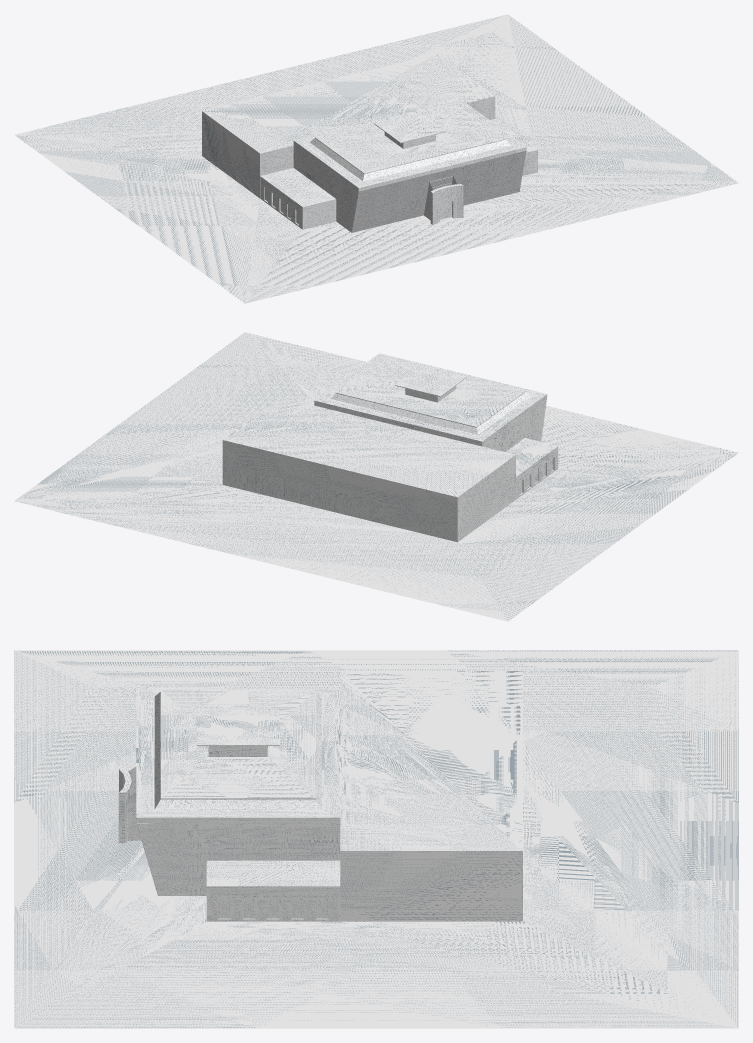
Rendered from showroom_bez_vsetkeho.obj.
3 renders of one model, top to bottom at view 1: azimuth 30°, elevation 25°; view 2: azimuth 150°, elevation 25°; view 3: azimuth 270°, elevation 25°, orthographic. The views are drawn at different scales.
Visible parts, largest first — view 1: Mesh167 Model; view 2: Mesh167 Model; view 3: Mesh167 Model.
Boxes of the visible parts, <box> form: Mesh167 Model: <box>14,14,738,303</box>; Mesh167 Model: <box>14,332,738,621</box>; Mesh167 Model: <box>14,650,738,1028</box>.
Size of the model in its own units: 73.56 by 9.47 by 59.54.
